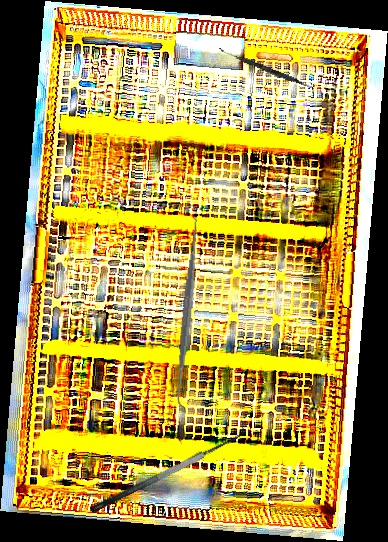Spatula Surgical: (83, 419, 252, 515), (167, 216, 208, 409), (217, 47, 316, 91)
